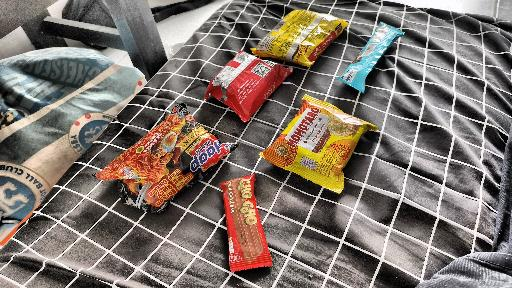chocho: (217, 178, 276, 273)
dilan: (337, 15, 406, 95)
indomie: (244, 2, 350, 67)
mie sedap: (91, 112, 235, 210)
momotaro: (250, 87, 375, 196), (202, 45, 295, 125)
